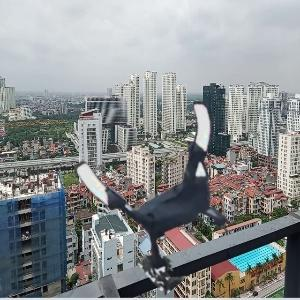drone: (94, 106, 253, 265)
